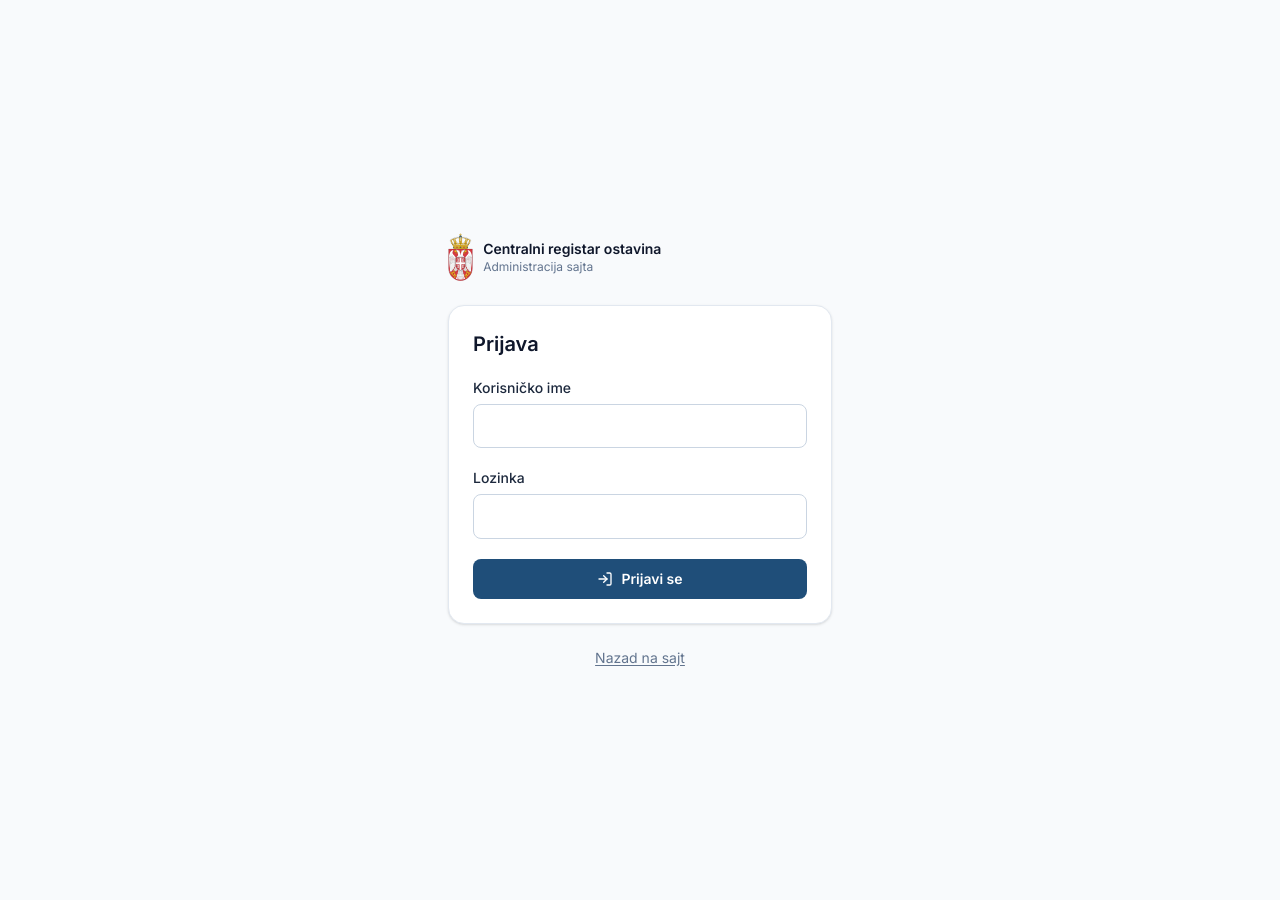
Scenario: administracija › detalji upita sa saglasnošću i brisanje uz potvrdu
In the field labelled "Korisničko ime": (640, 426) [473, 404, 807, 448], type "admin"
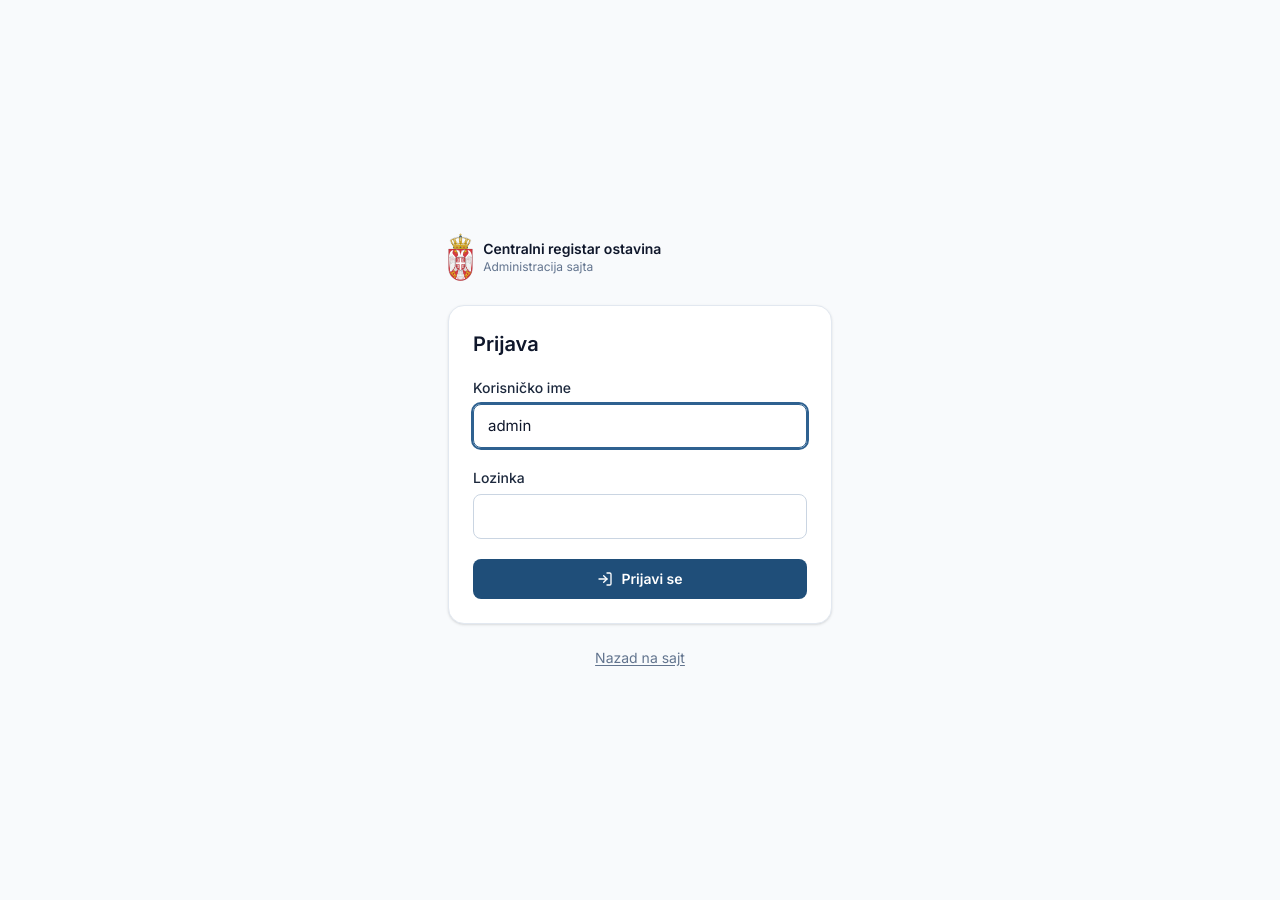
In the password field labelled "Lozinka": (640, 516) [473, 494, 807, 538], type "tacna-lozinka"
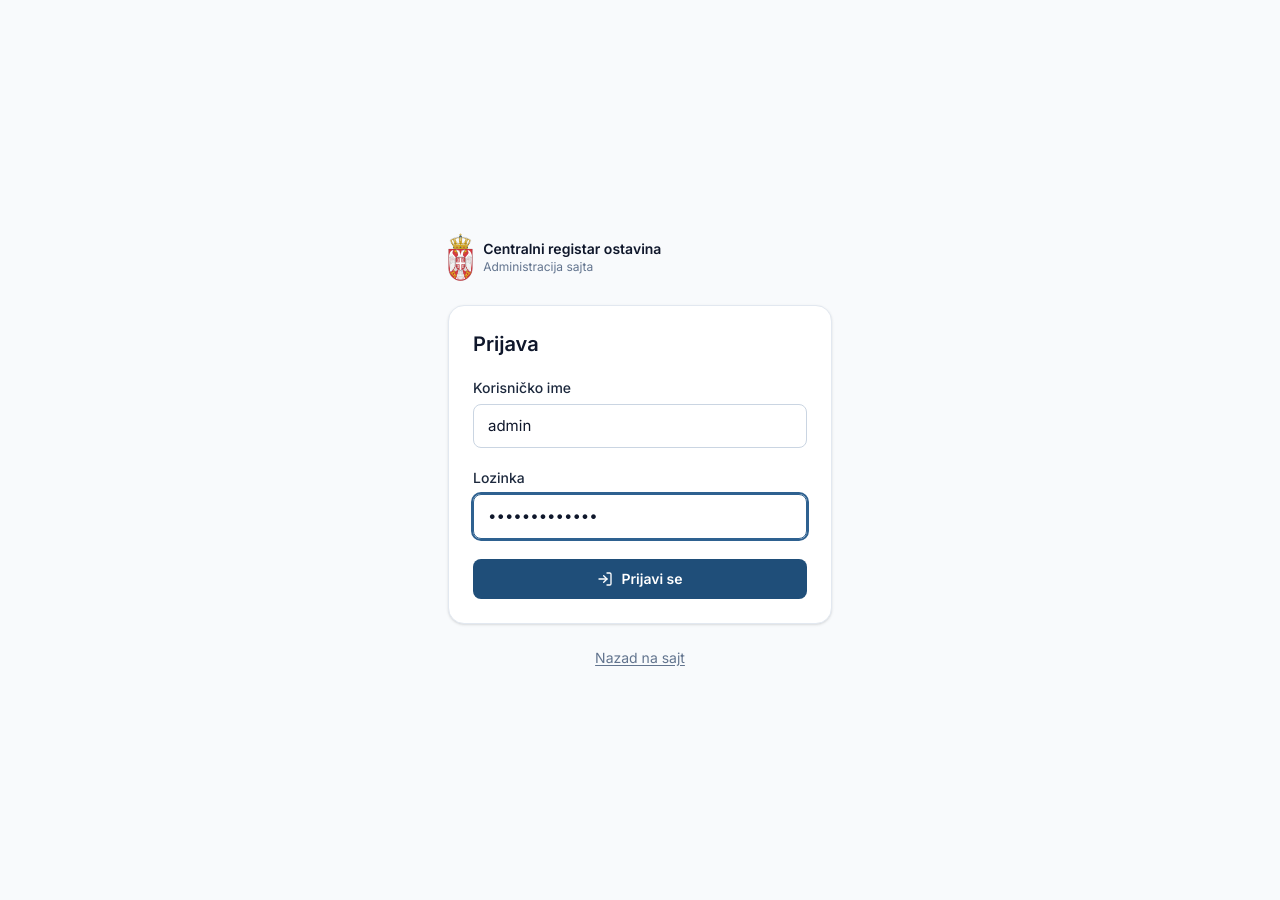
Click the button "Prijavi se": (640, 578) [473, 558, 807, 598]
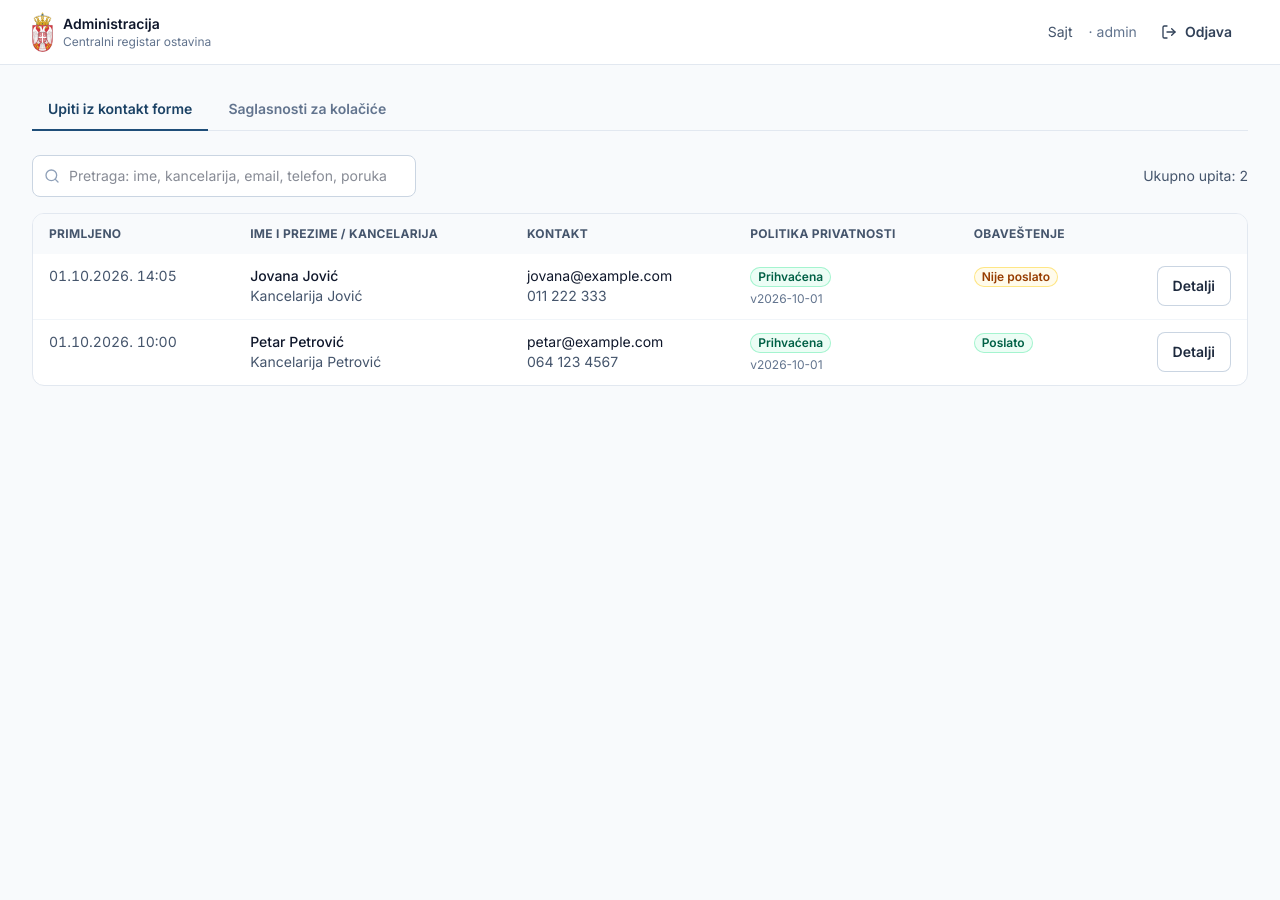
Click the button with aria-label "Detalji upita #2 (Jovana Jović)": (1194, 286) [1157, 266, 1231, 306]
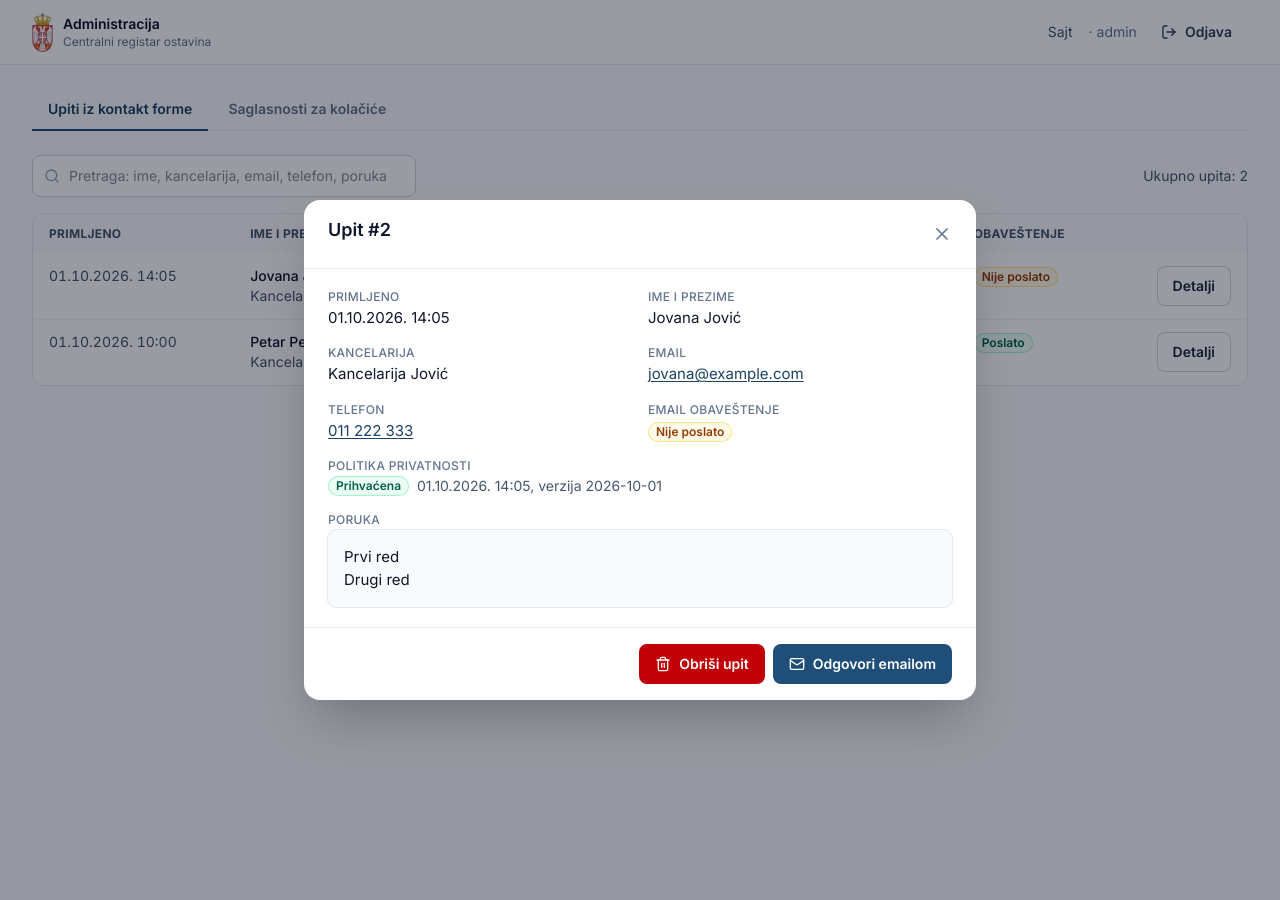
Expected: the dialog "Upit #2" shows "Prvi red", [344, 547, 410, 589]
Expected: the dialog "Upit #2" shows "Prihvaćena", [336, 478, 401, 493]
Expected: the dialog "Upit #2" shows "verzija 2026-10-01", [304, 200, 976, 700]
Click the button "Obriši upit": (702, 664) [639, 644, 765, 684]
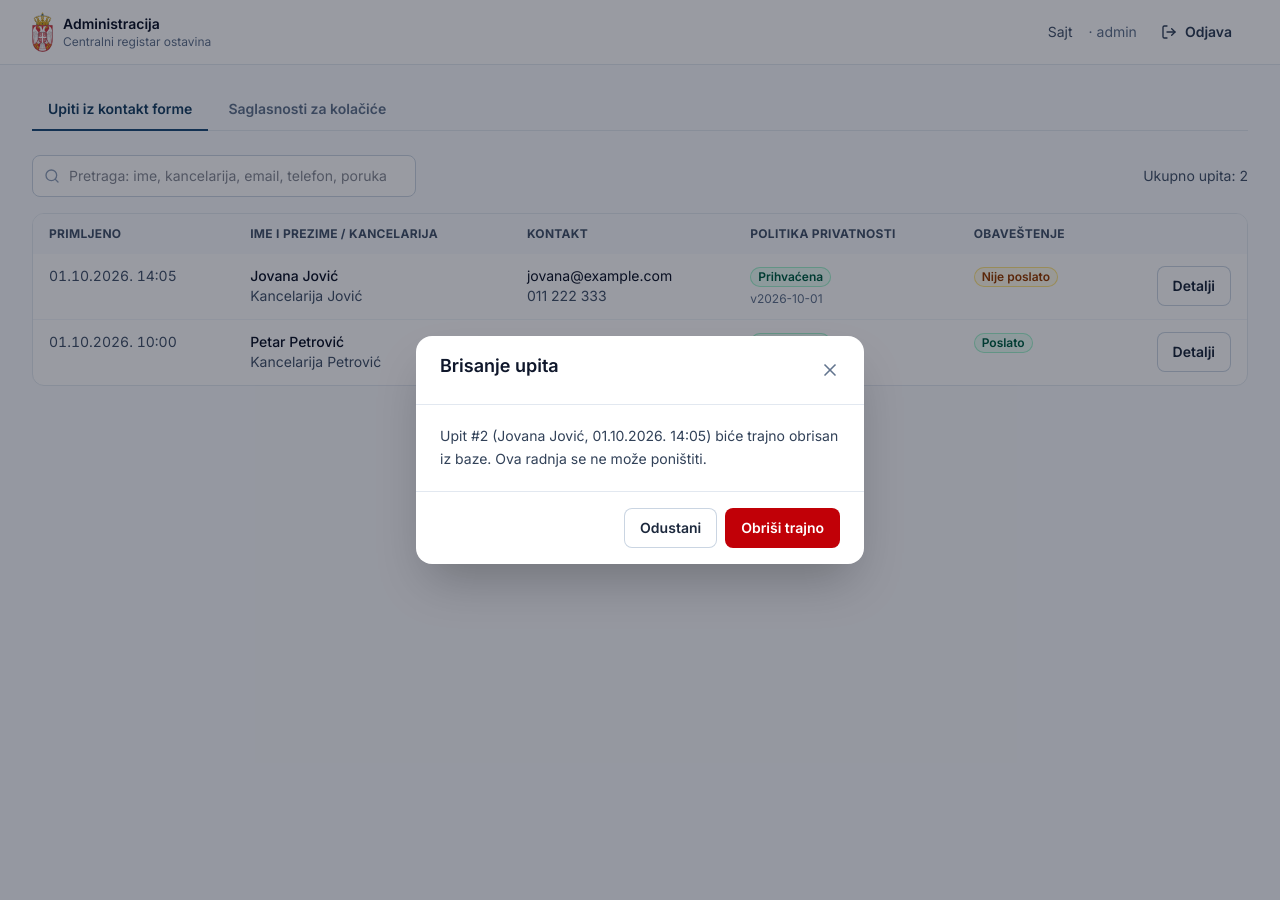
Expected: the dialog "Brisanje upita" shows "biće trajno obrisan", [440, 427, 838, 467]
Click the button "Obriši trajno": (783, 528) [725, 508, 840, 548]
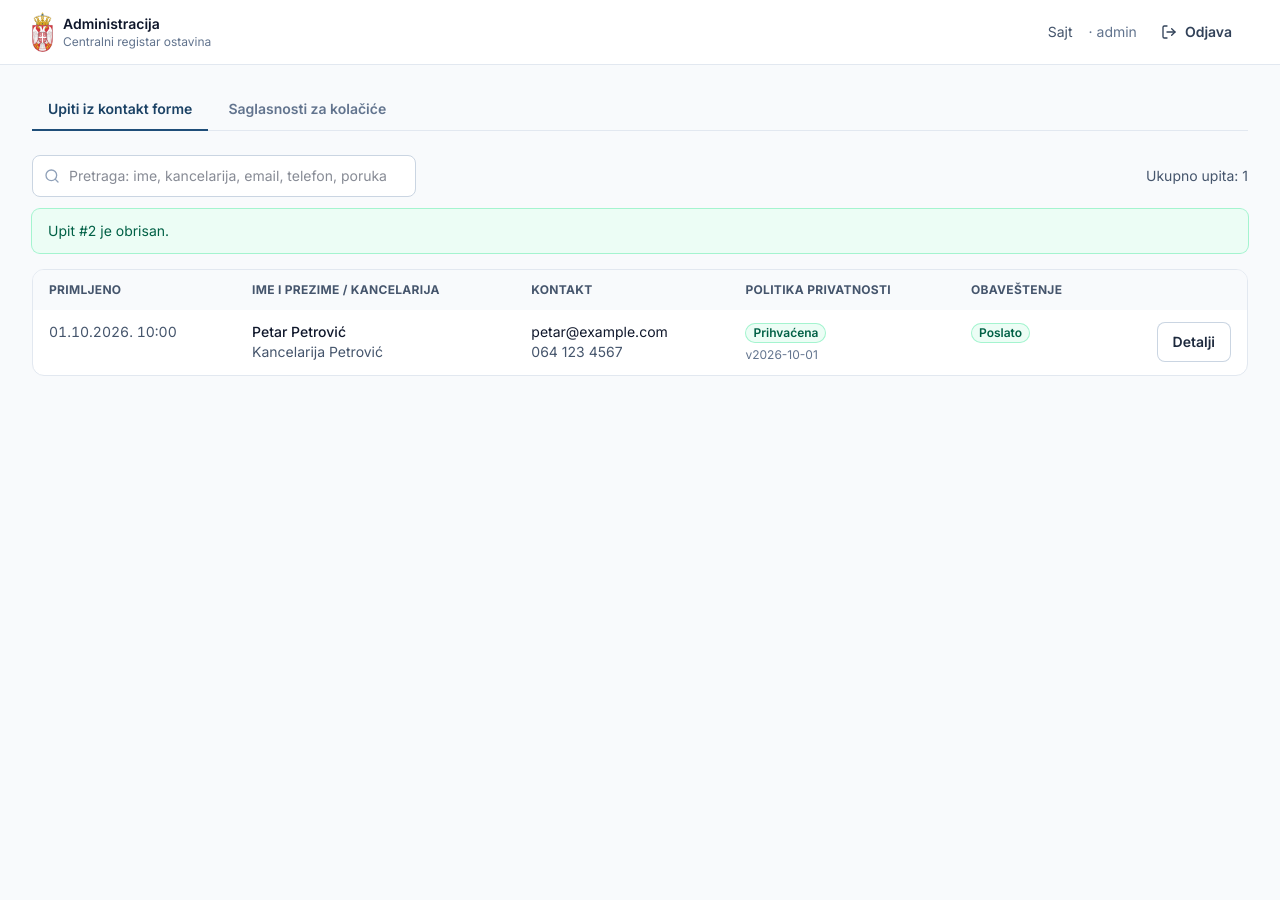
Expected: the text "Upit #2 je obrisan." is shown, [32, 209, 1248, 253]
Expected: the text "Jovana Jović" is gone
Expected: the dialog is gone
